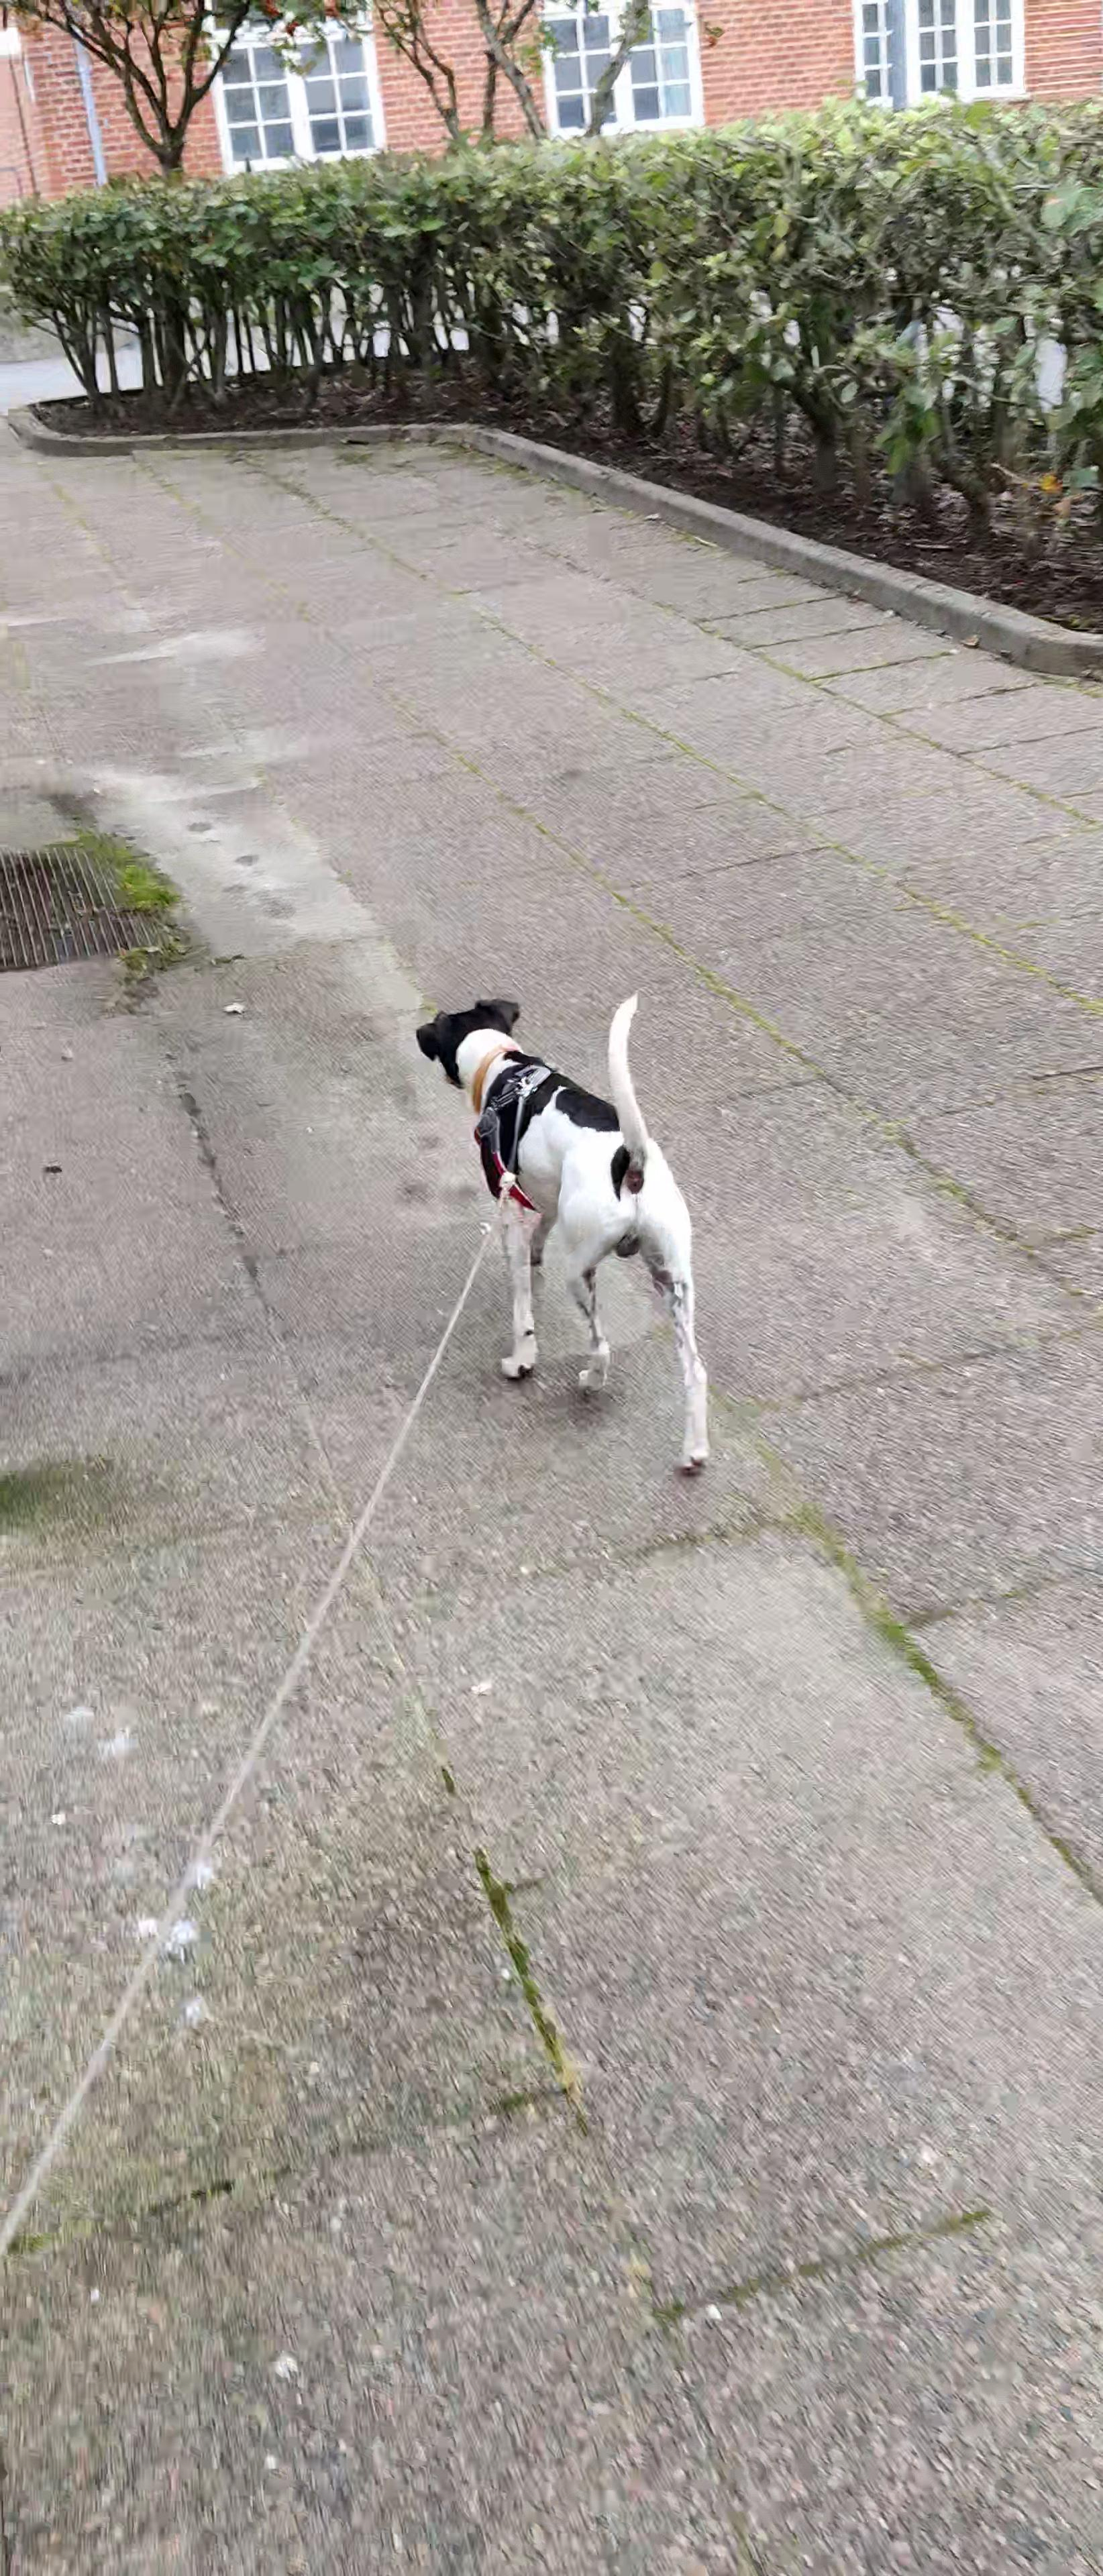Dog: (404, 982, 722, 1490)
